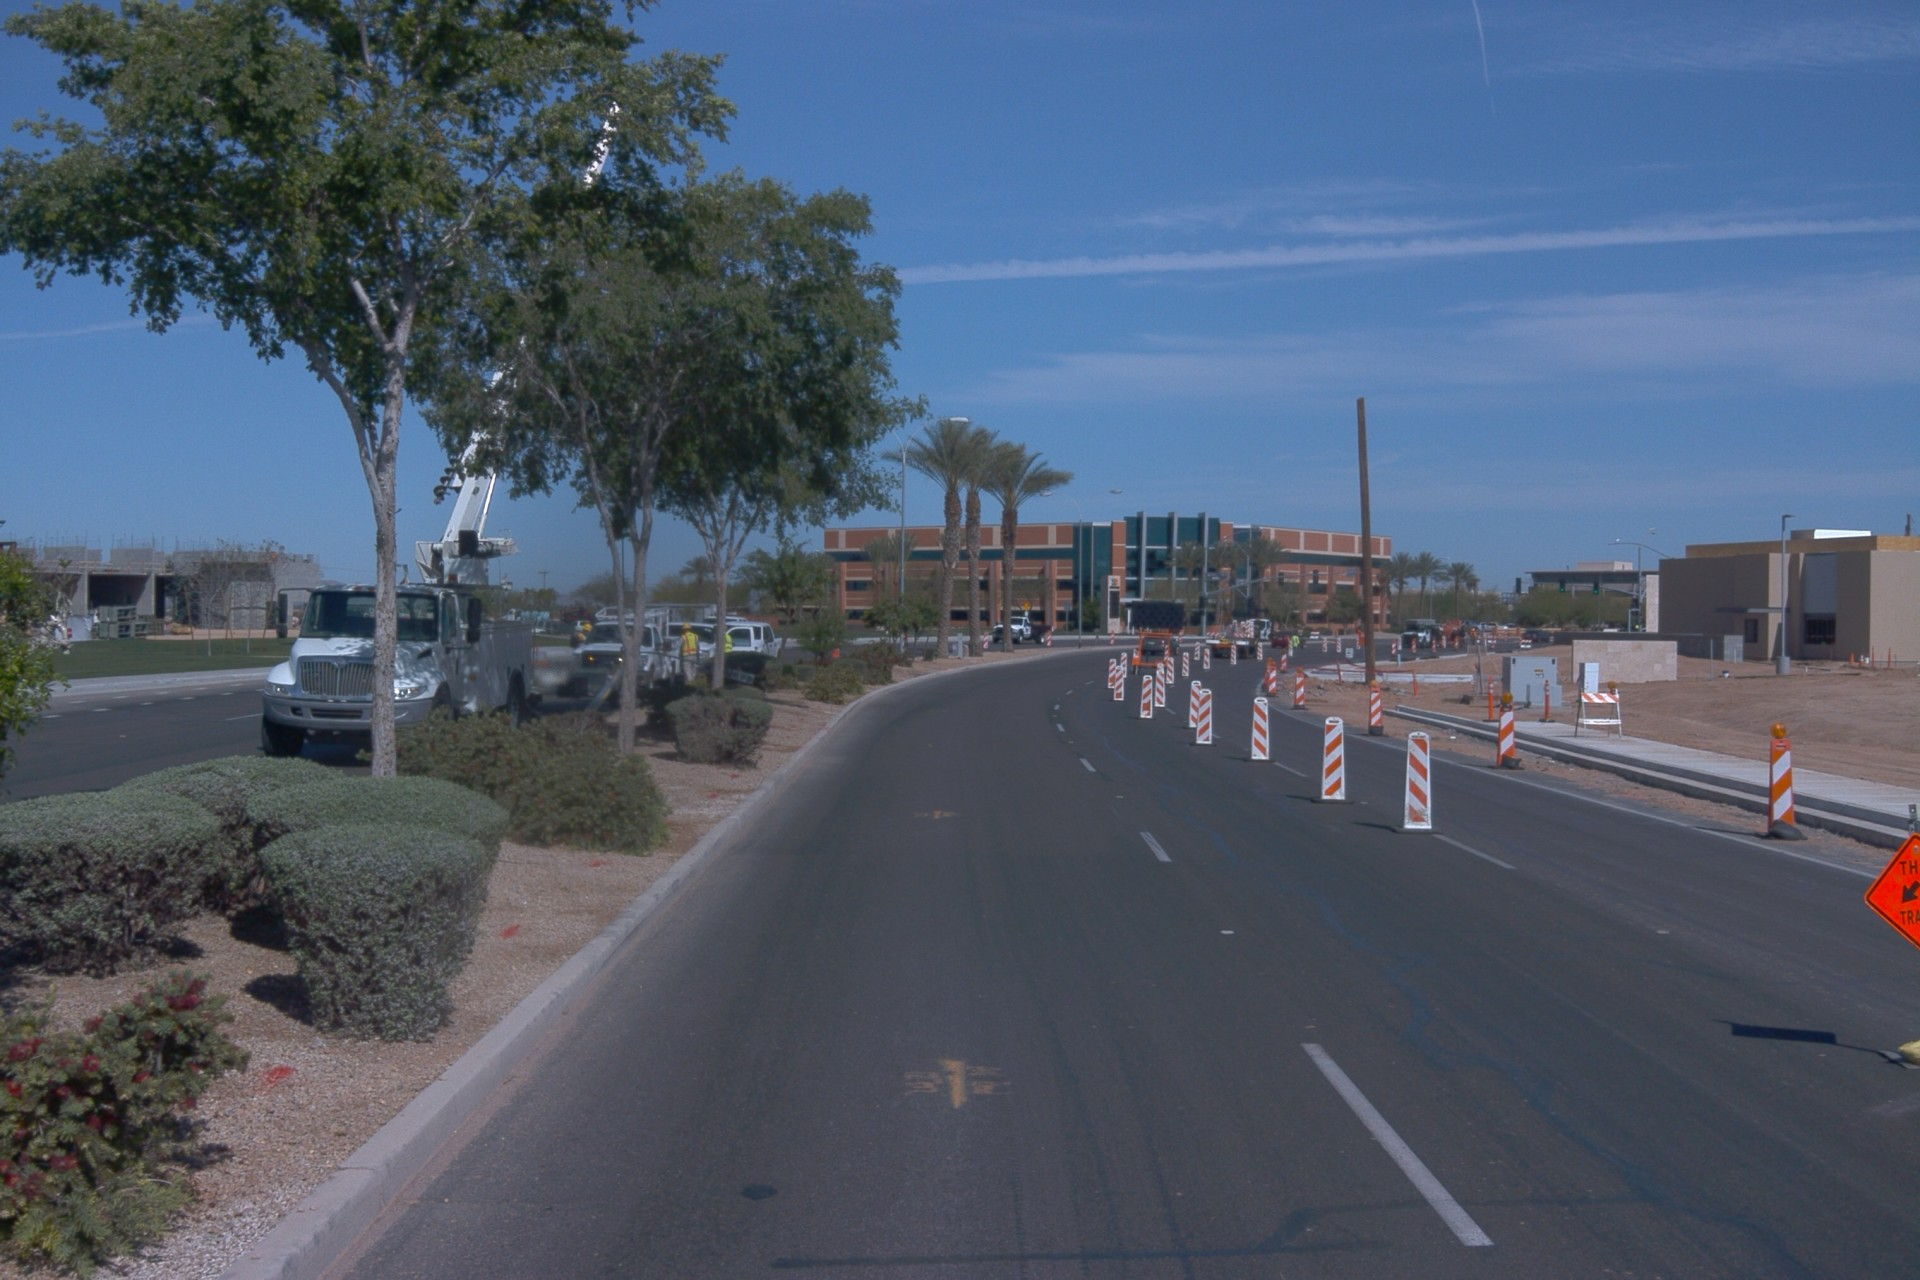TYPE_PEDESTRIAN: (661, 622, 702, 686), (726, 622, 735, 654), (1291, 630, 1299, 662)
TYPE_VEHICLE: (253, 83, 639, 762), (543, 603, 788, 723), (564, 613, 690, 700), (546, 602, 655, 667), (1121, 594, 1193, 684), (657, 623, 723, 687), (1203, 612, 1279, 666), (1391, 615, 1482, 658), (722, 617, 785, 668), (984, 613, 1055, 657), (1245, 618, 1307, 648), (1266, 626, 1308, 653), (1140, 635, 1179, 656), (701, 615, 749, 627), (86, 612, 104, 631)
